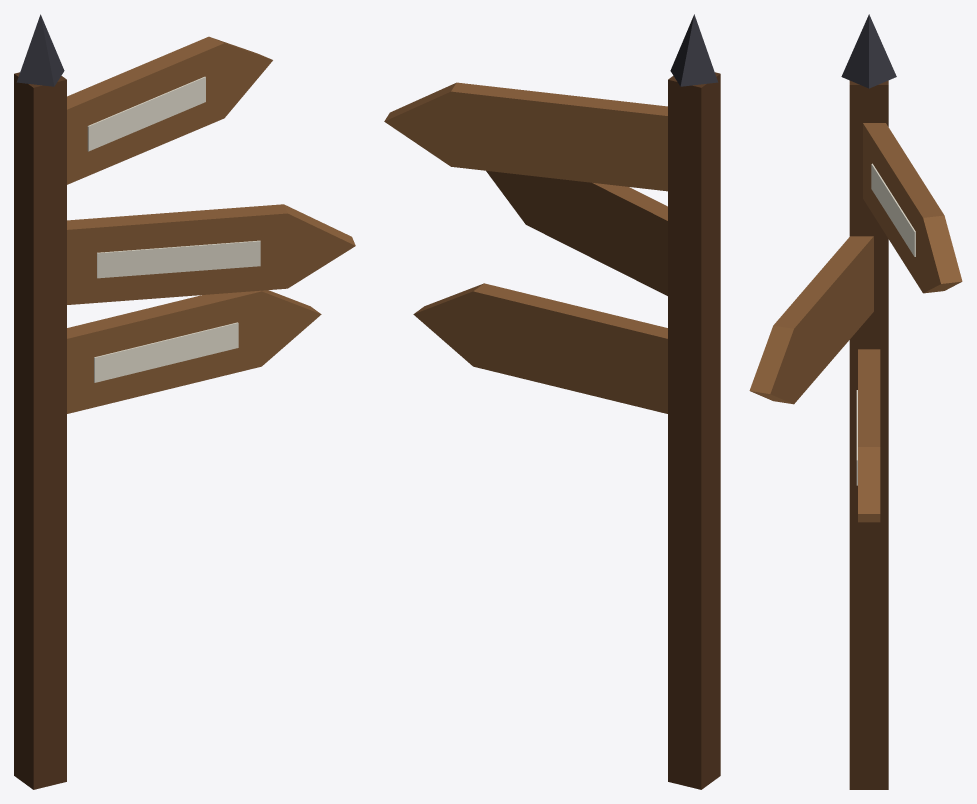
Rendered from Signpost.fbx.
3 views of the same model, side by side, from view 1: azimuth 30°, elevation 25°; view 2: azimuth 150°, elevation 25°; view 3: azimuth 270°, elevation 25° (orthographic).
Visible parts, largest first — view 1: Signpost; view 2: Signpost; view 3: Signpost.
Boxes of the visible parts, x1=… form: Signpost: x1=14, y1=14, x2=355, y2=789; Signpost: x1=384, y1=14, x2=720, y2=789; Signpost: x1=749, y1=14, x2=962, y2=789.
Size of the model in its own units: 1.25 by 3.05 by 0.7672.
